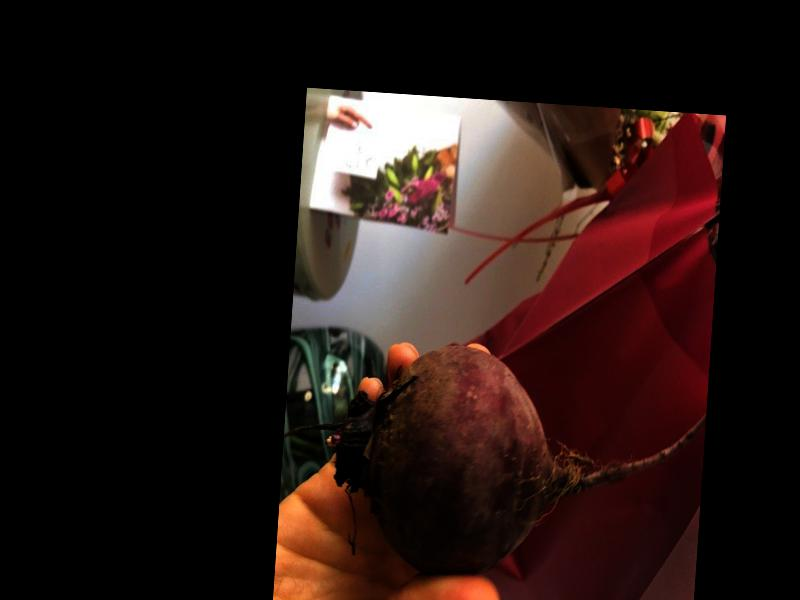Beet: (278, 333, 708, 591)
